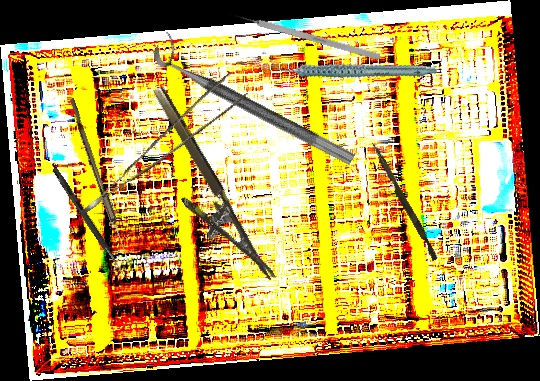Fixation Ring: (149, 29, 365, 168)
Handpiece: (270, 28, 438, 108)
Hook Surgical: (50, 166, 132, 283), (228, 10, 381, 61)
Needle Holder: (127, 84, 276, 299)
Pusher: (367, 142, 441, 261)
Surgical Spoon: (66, 97, 134, 267)
Tissue Forceps: (62, 70, 255, 215)
